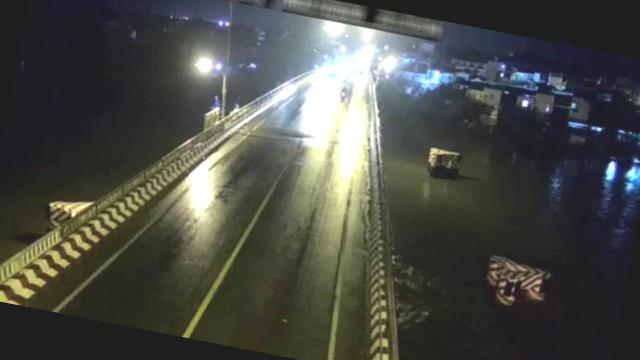Bike: (336, 85, 349, 104)
